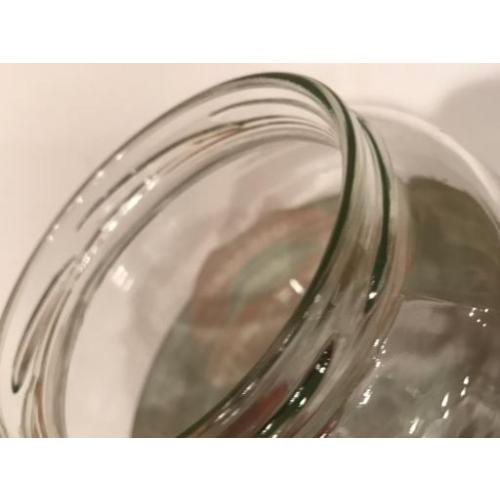glass: (3, 73, 499, 437)
